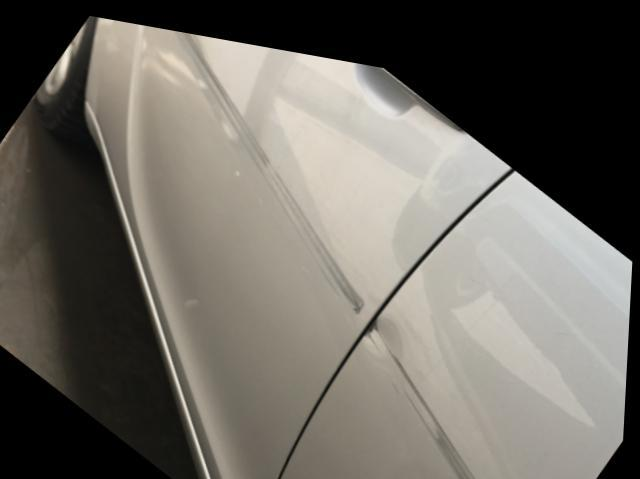dent: (366, 299, 407, 343)
scratch: (174, 25, 366, 299), (393, 337, 492, 479)
